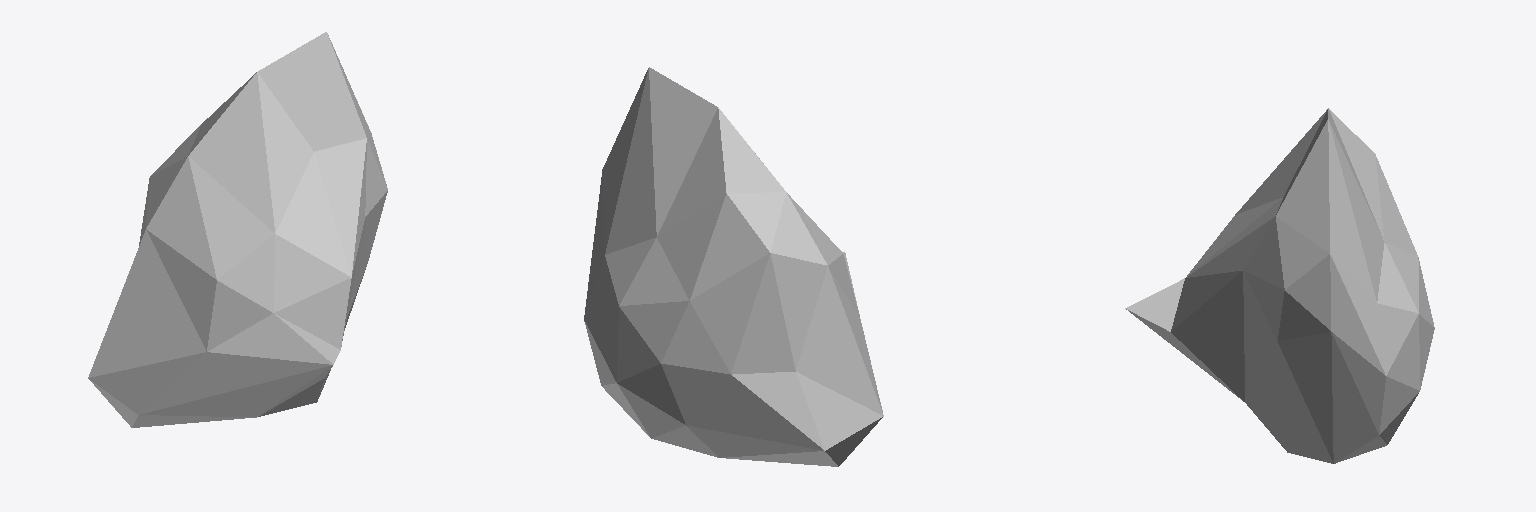
File: spire.obj
3 views of the same model, side by side, from view 1: azimuth 30°, elevation 25°; view 2: azimuth 150°, elevation 25°; view 3: azimuth 270°, elevation 25° (orthographic).
Parts seen in each view (by area): view 1: Icosphere; view 2: Icosphere; view 3: Icosphere.
Boxes of the visible parts, x1=… form: Icosphere: x1=88, y1=32, x2=387, y2=427; Icosphere: x1=584, y1=67, x2=883, y2=466; Icosphere: x1=1125, y1=108, x2=1434, y2=463.
Size of the model in its own units: 9.49 by 11.74 by 8.97.